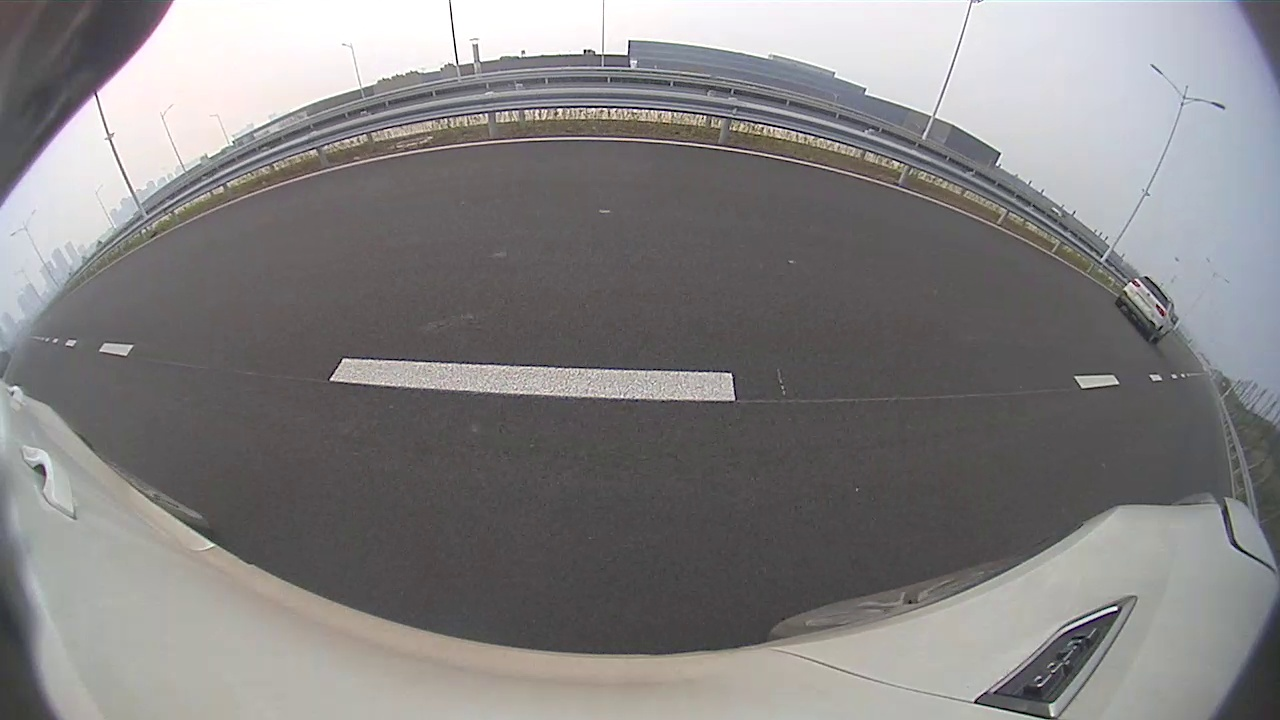car: (683, 153, 731, 188)
rear: (687, 173, 693, 189)
